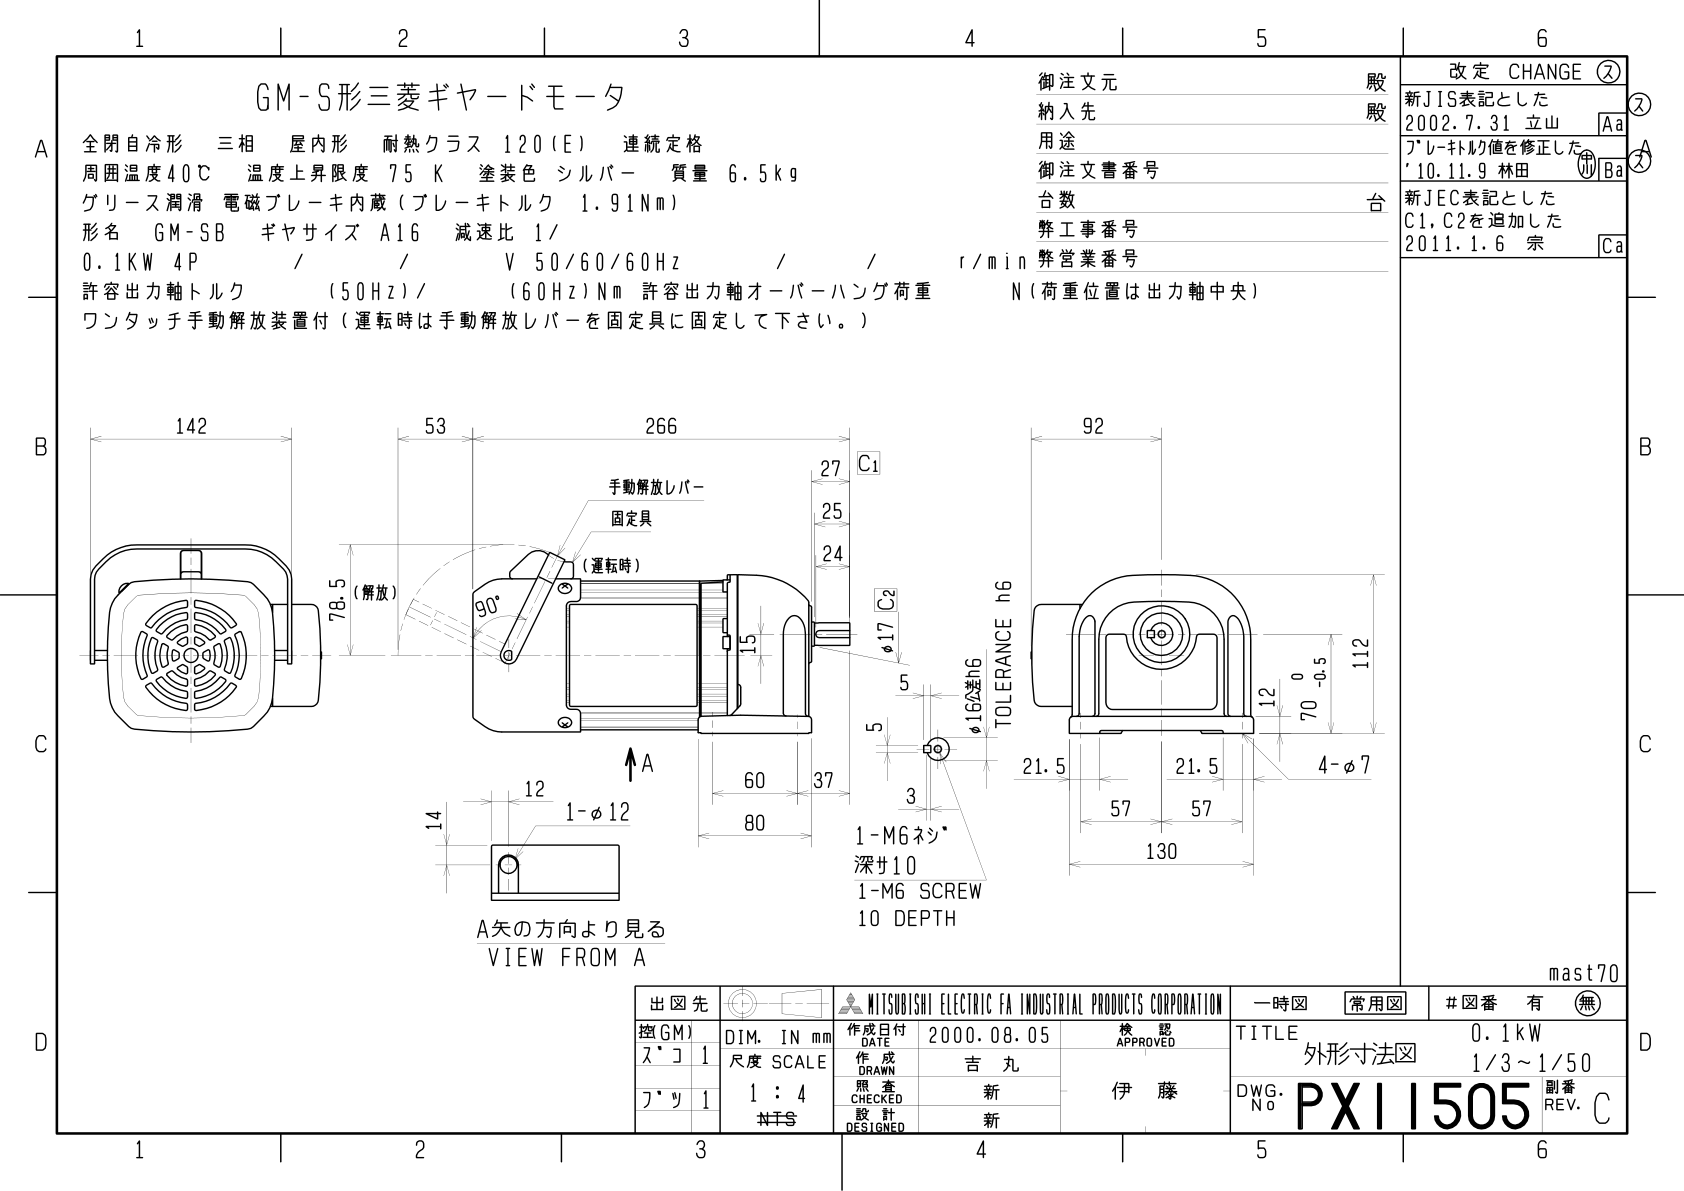GM_S_手動ブレーキ＿三相_脚: (9, 10, 1684, 1191)
